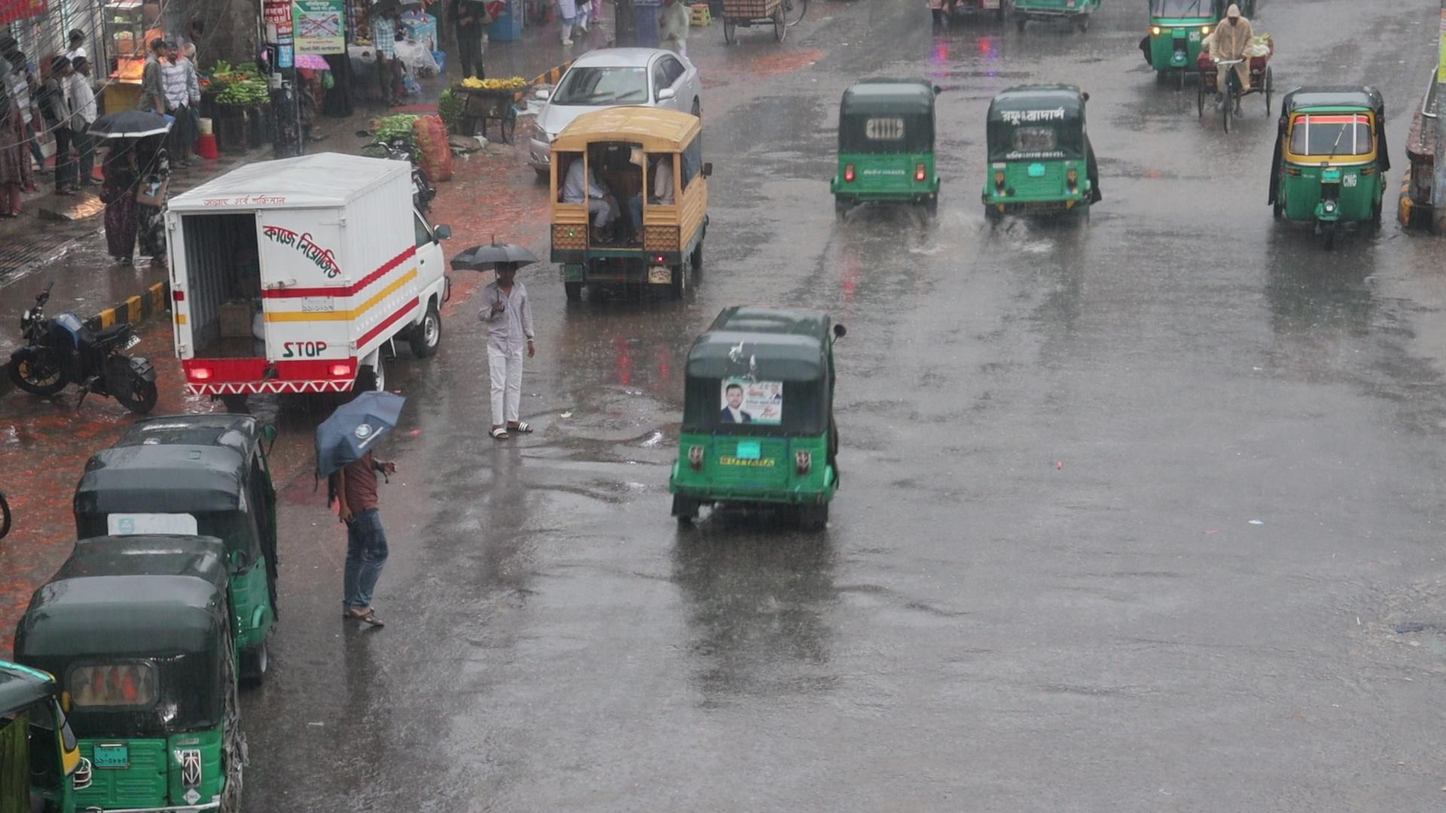Truck: (546, 102, 714, 301)
